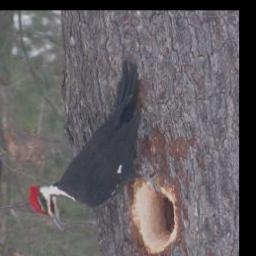Woodpecker: (26, 60, 168, 232)
